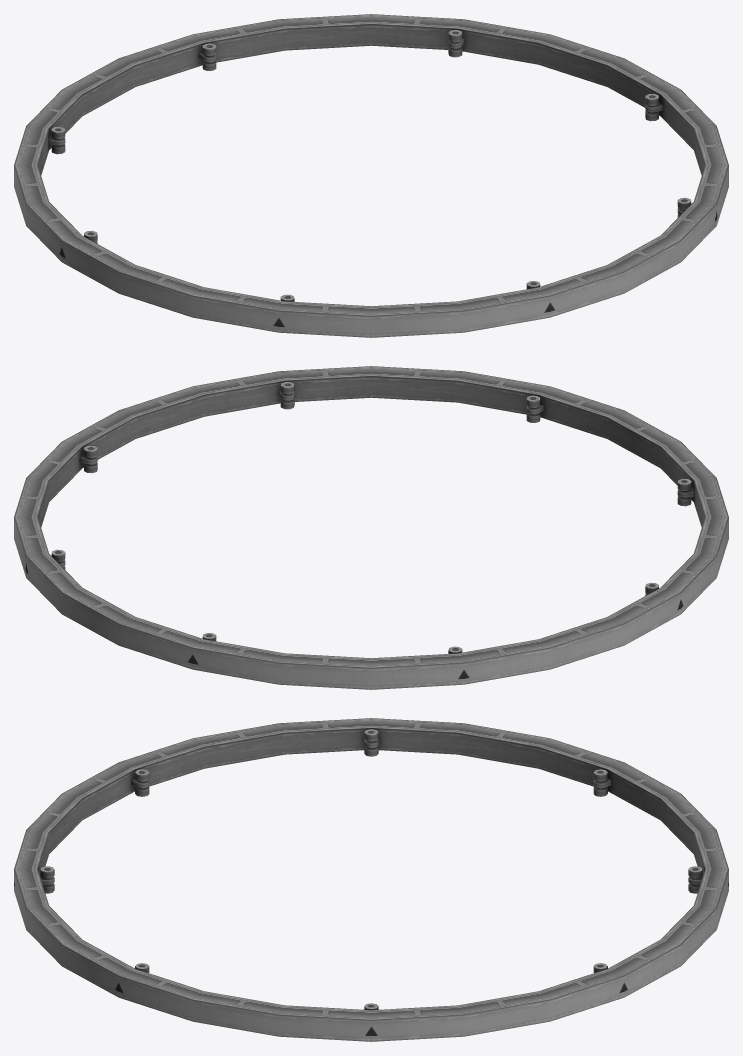
File: castor_decoupler_s3_1.obj
3 views of the same model, one above another, from view 1: azimuth 30°, elevation 25°; view 2: azimuth 150°, elevation 25°; view 3: azimuth 270°, elevation 25° (orthographic).
Visible parts, largest first — view 1: mesh1; view 2: mesh1; view 3: mesh1.
Part boxes in pixels (x1=…): mesh1: x1=14, y1=14, x2=728, y2=337; mesh1: x1=14, y1=366, x2=728, y2=689; mesh1: x1=14, y1=718, x2=728, y2=1041.
Size of the model in its own units: 3.75 by 0.125 by 3.75.
Materials: 1 (1 with a texture image).
